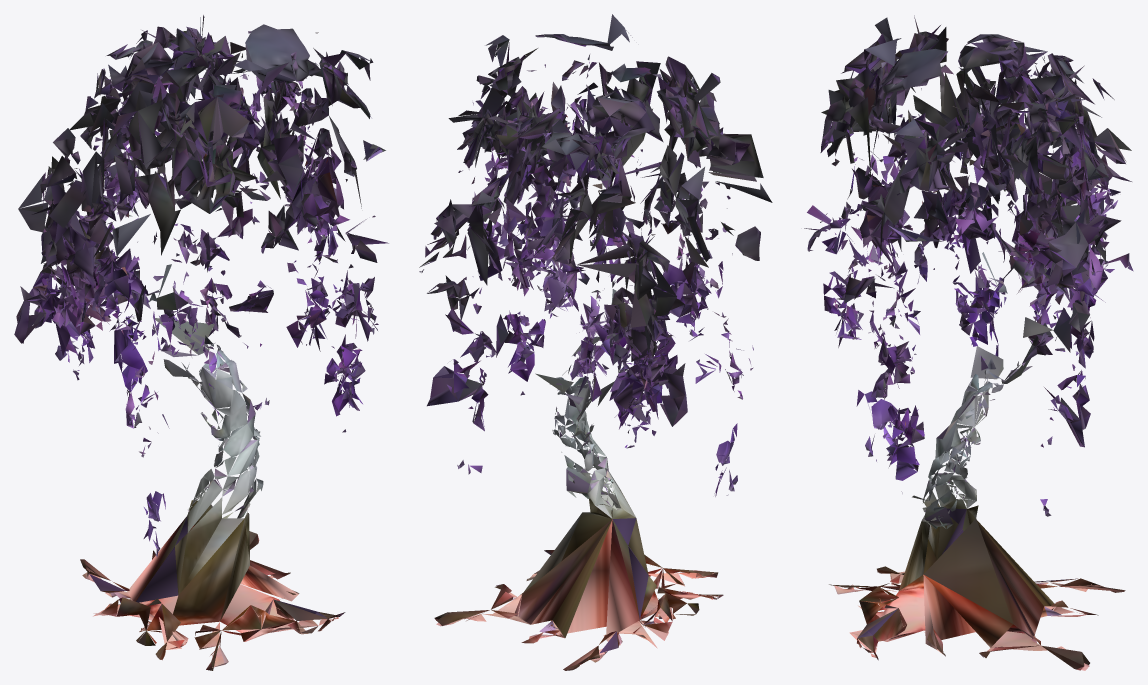
The model's file is Enchanted_Wisteria_Tr.glb.
The picture shows the model from 3 angles, left to right: view 1: azimuth 30°, elevation 25°; view 2: azimuth 150°, elevation 25°; view 3: azimuth 270°, elevation 25°; orthographic projection. The views are drawn at different scales.
Parts seen in each view (by area): view 1: Enchanted_Wisteria_Tr_lite; view 2: Enchanted_Wisteria_Tr_lite; view 3: Enchanted_Wisteria_Tr_lite.
Part boxes in pixels (x1,y1,x2,y2): Enchanted_Wisteria_Tr_lite: (14, 15, 388, 670); Enchanted_Wisteria_Tr_lite: (419, 14, 772, 670); Enchanted_Wisteria_Tr_lite: (804, 15, 1133, 670).
Size of the model in its own units: 6.47 by 12.23 by 6.22.
Materials: 1 (1 with a texture image).
